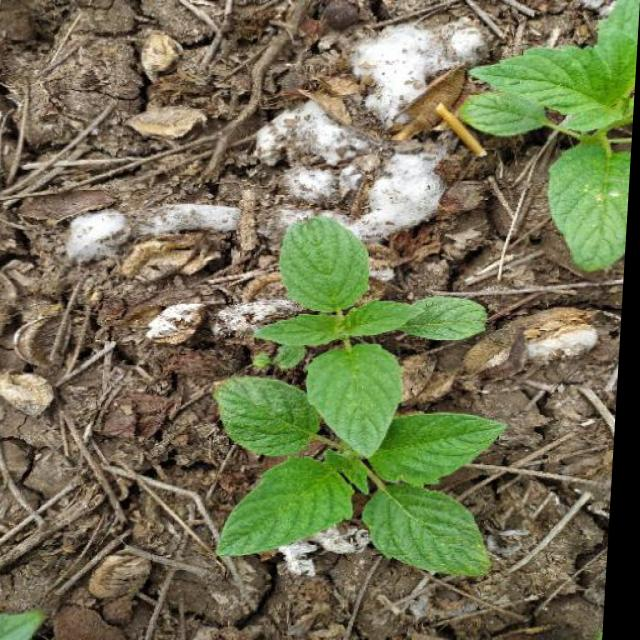crop: (206, 189, 534, 575), (442, 1, 640, 288)
